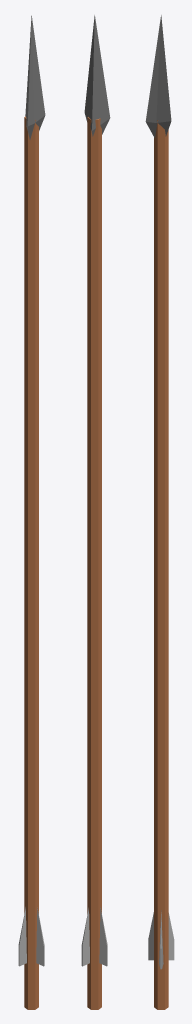
Rendered from Arrow.fbx.
3 views of the same model, side by side, from view 1: azimuth 30°, elevation 25°; view 2: azimuth 150°, elevation 25°; view 3: azimuth 330°, elevation 25° (orthographic).
Visible parts, largest first — view 1: Arrow Flint; view 2: Arrow Flint; view 3: Arrow Flint.
Part boxes in pixels (x1,y1,x2,y2): Arrow Flint: (18, 15, 45, 1009); Arrow Flint: (81, 15, 110, 1009); Arrow Flint: (145, 15, 174, 1009).
Bounding box in the file's own units: 3.13 × 120 × 2.87.
